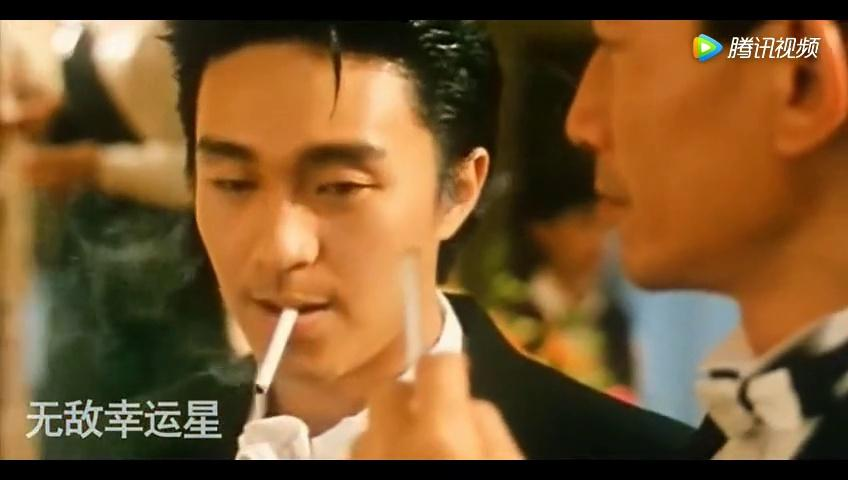smoke: (246, 287, 303, 396)
